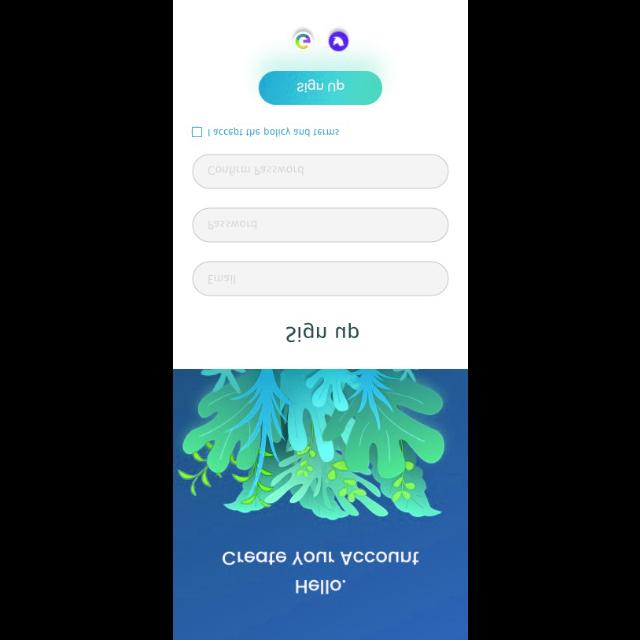checkbox: (191, 126, 201, 138)
icon: (328, 30, 348, 51), (293, 31, 313, 51)
image: (173, 368, 467, 640)
input: (192, 207, 450, 243), (192, 260, 448, 296), (192, 153, 446, 189)
text: (222, 551, 418, 565), (286, 322, 358, 342), (209, 127, 339, 137), (208, 166, 304, 176), (295, 578, 345, 594), (208, 220, 256, 230), (209, 274, 235, 284)
textbutton: (258, 70, 382, 106)
